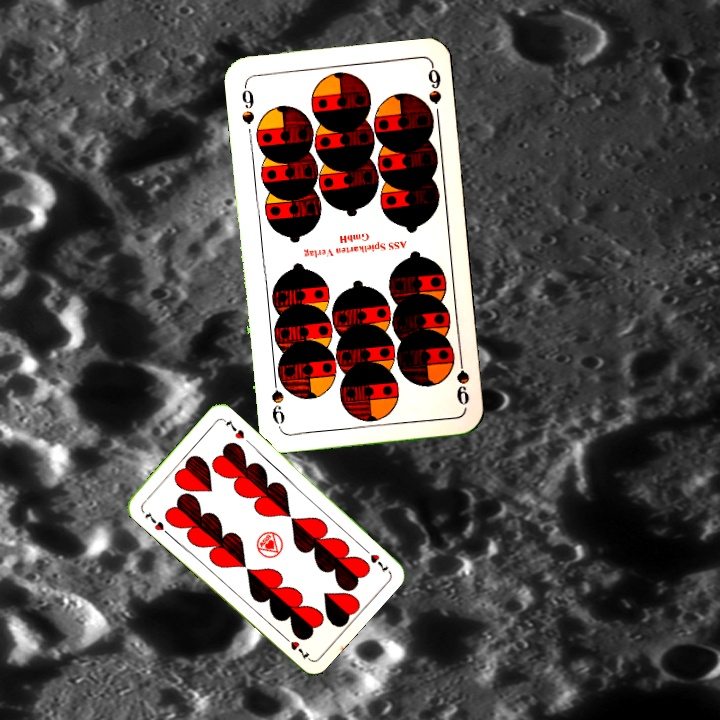H7: (358, 543, 391, 575), (141, 508, 167, 533)
S9: (443, 351, 472, 410), (237, 79, 257, 127)
